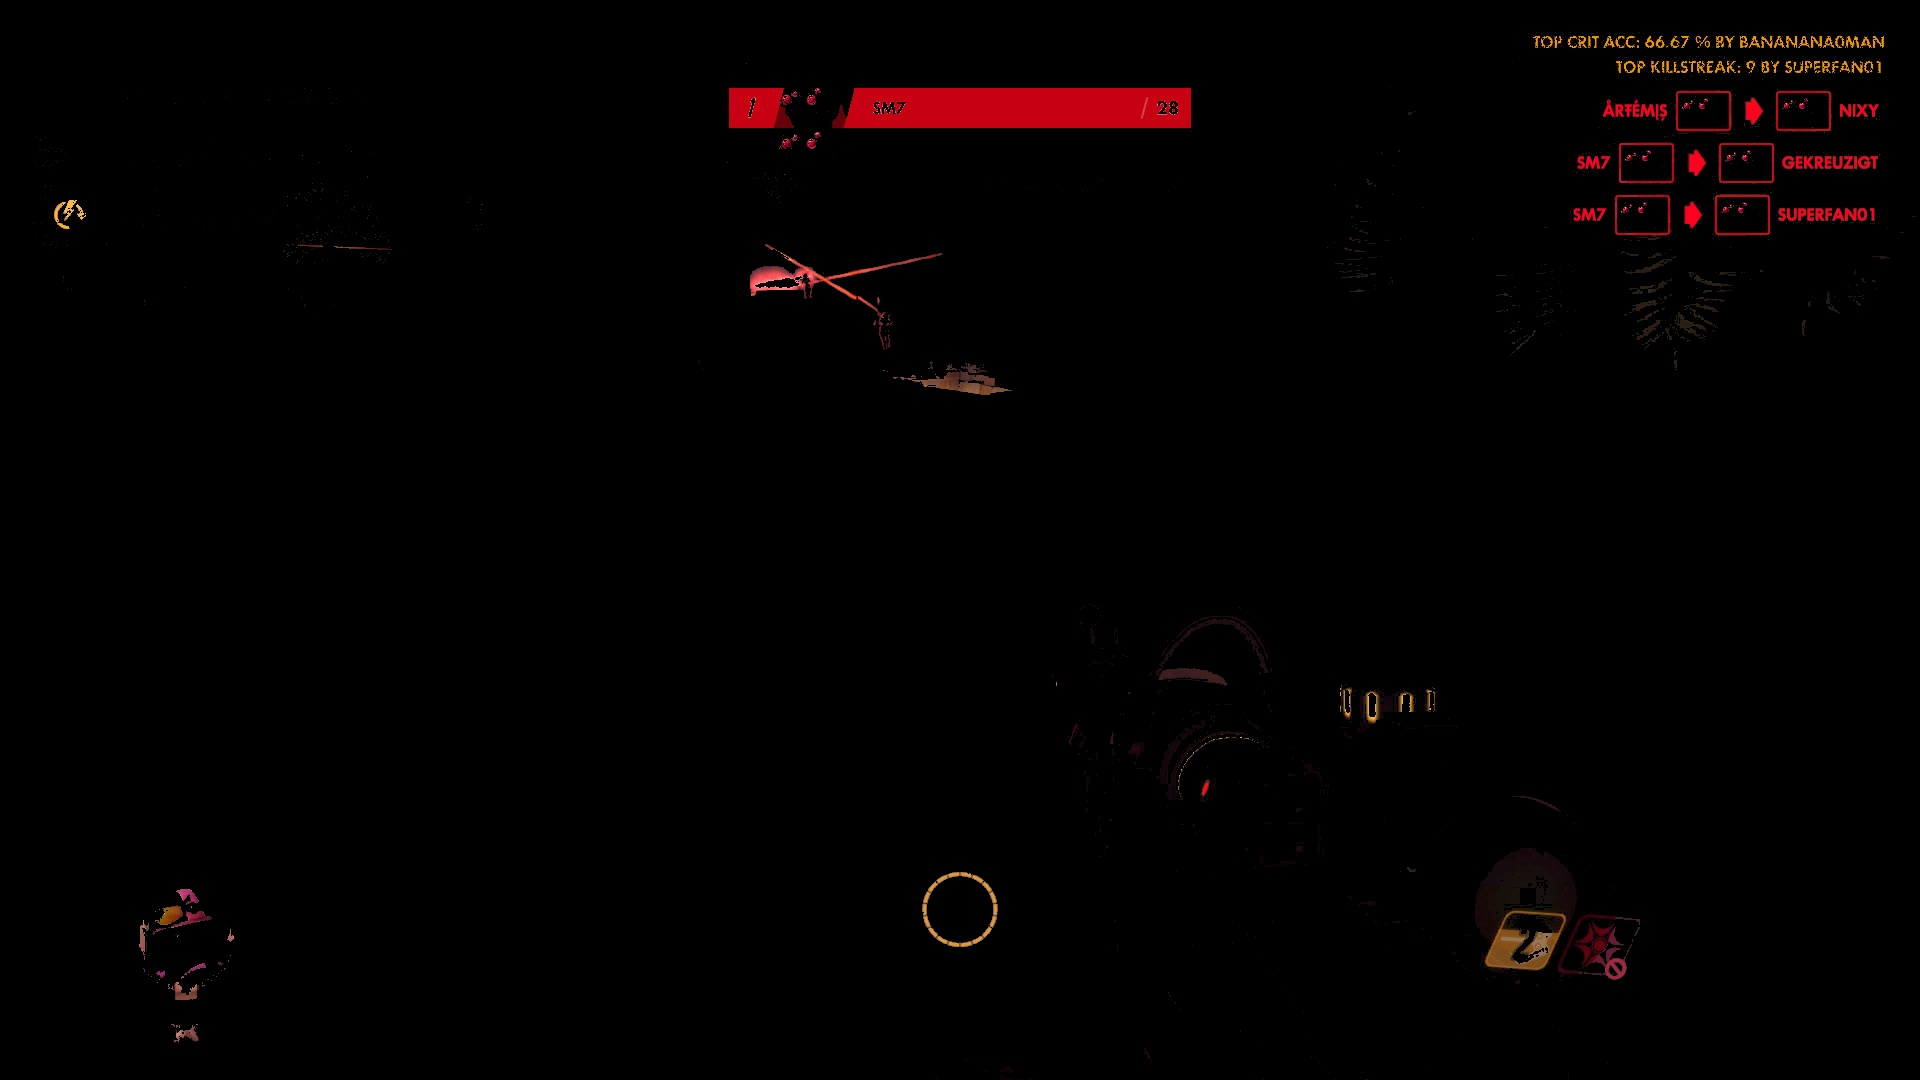widowmaker: (876, 313, 893, 351), (800, 273, 815, 301)
